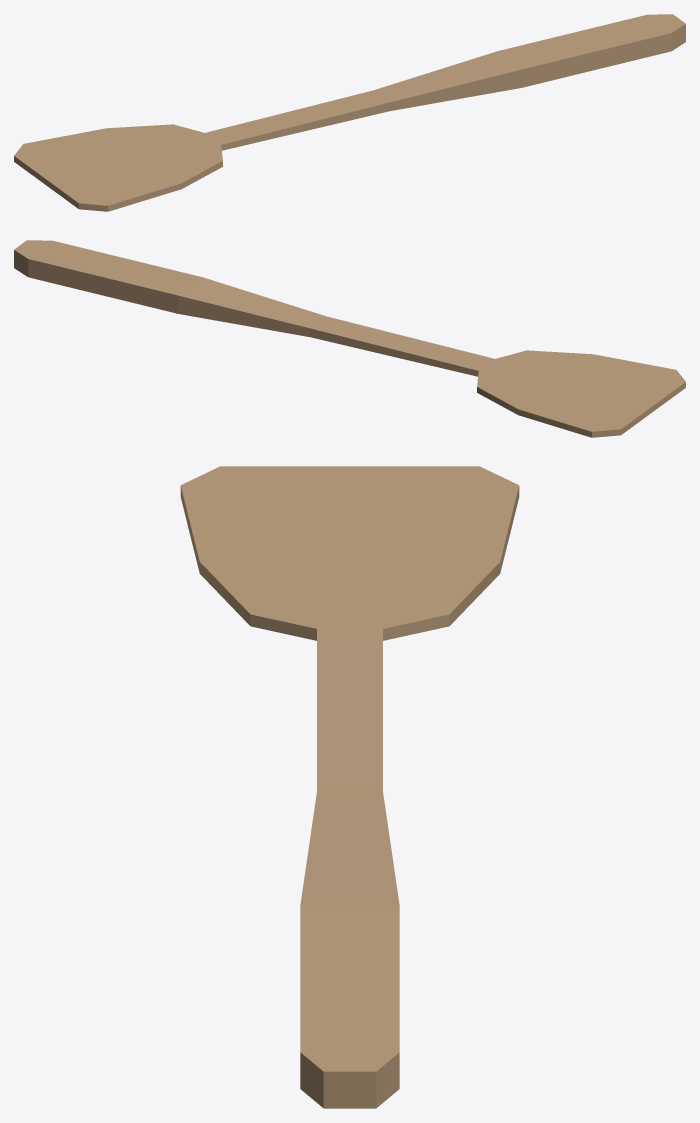
Rendered from shan_z.fbx.
3 renders of one model, top to bottom at view 1: azimuth 30°, elevation 25°; view 2: azimuth 150°, elevation 25°; view 3: azimuth 270°, elevation 25°, orthographic. The views are drawn at different scales.
Parts seen in each view (by area): view 1: shan_z; view 2: shan_z; view 3: shan_z.
Boxes of the visible parts, x1,y1,x2,y2 form: shan_z: (14,14,685,211); shan_z: (14,240,685,437); shan_z: (180,466,519,1108).
Bounding box in the file's own units: 5.73 × 0.1589 × 1.33.
